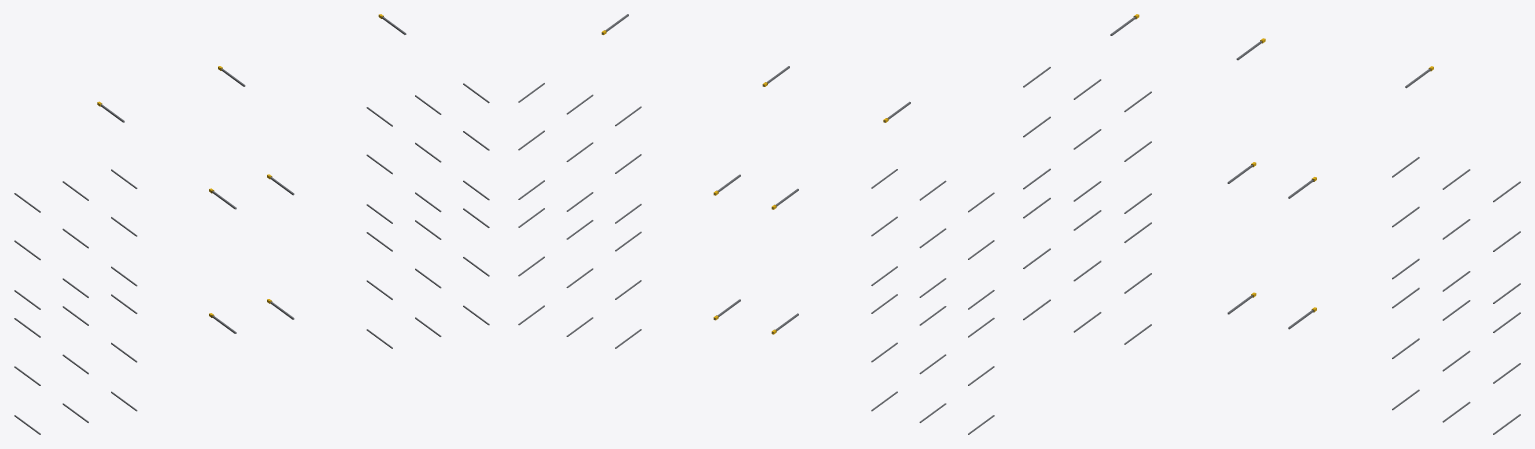
Rendered from columns.gltf.
3 views of the same model, side by side, from view 1: azimuth 30°, elevation 25°; view 2: azimuth 150°, elevation 25°; view 3: azimuth 330°, elevation 25° (orthographic). The views are drawn at different scales.
Visible parts, largest first — view 1: columns; view 2: columns; view 3: columns.
Part boxes in pixels (x1=…): columns: x1=14, y1=14, x2=489, y2=434; columns: x1=518, y1=14, x2=994, y2=434; columns: x1=1023, y1=14, x2=1520, y2=434.
Bounding box in the file's own units: 112 × 74.33 × 11.
Materials: 3 (3 with a texture image).
